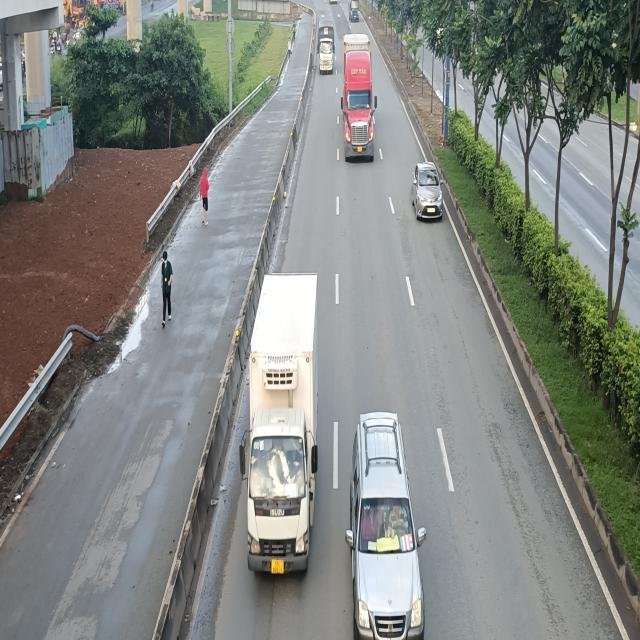car: (352, 416, 432, 640), (412, 160, 444, 220)
container: (342, 32, 378, 161)
truck: (238, 272, 320, 576), (317, 19, 335, 74)
